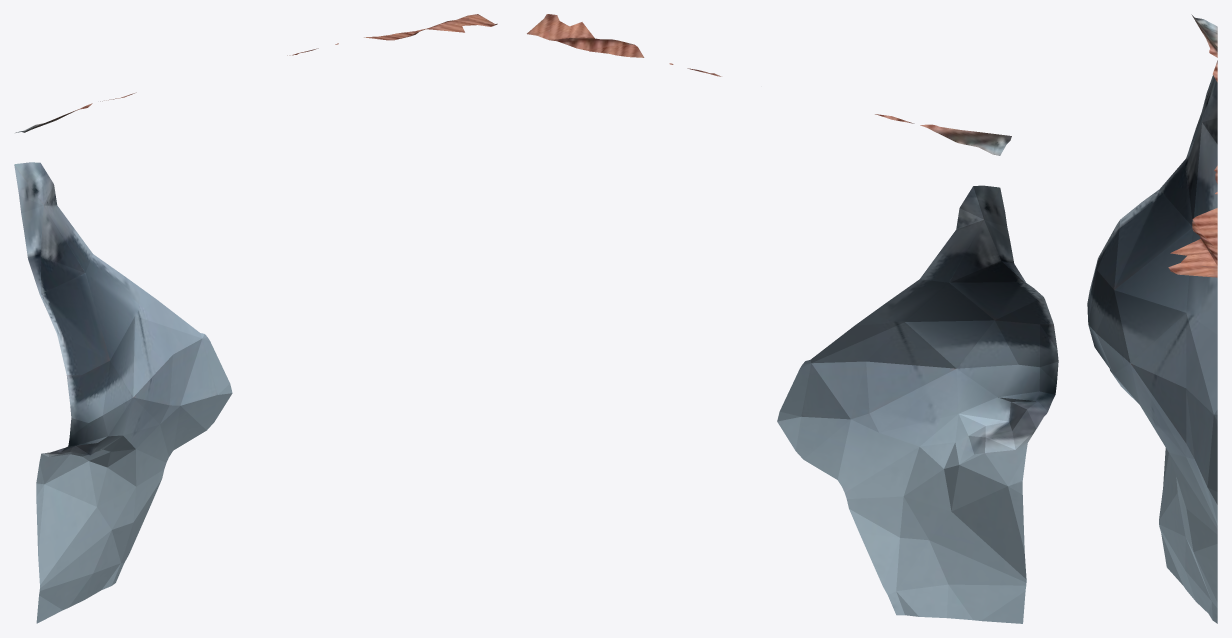
The picture shows the model from 3 angles, left to right: view 1: azimuth 30°, elevation 25°; view 2: azimuth 150°, elevation 25°; view 3: azimuth 270°, elevation 25°; orthographic projection. The views are drawn at different scales.
Bounding box in the file's own units: 3.35 × 3.35 × 0.7146.
Materials: 1 (1 with a texture image).
